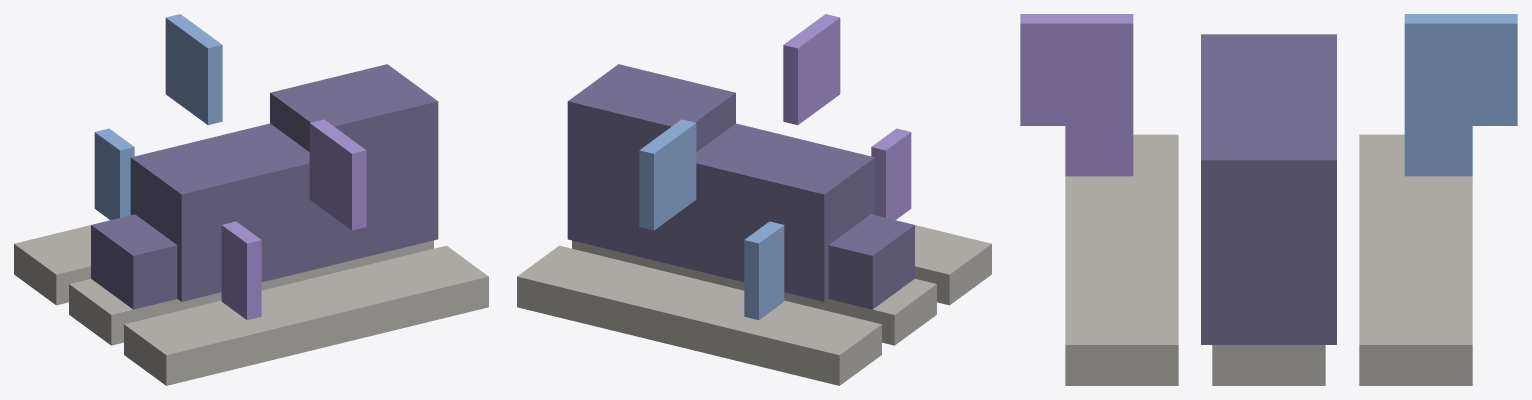
The model's file is hy4_mariposa_rojo_alas_20261113.glb.
3 renders of one model, left to right at view 1: azimuth 30°, elevation 25°; view 2: azimuth 150°, elevation 25°; view 3: azimuth 270°, elevation 25°, orthographic. The views are drawn at different scales.
Visible parts, largest first — view 1: SM_Mariposa_Cuerpo_NOFUNDIR, SM_Mariposa_Rodela_NOFUNDIR, SM_Mariposa_Ala_L_NOFUNDIR, SM_Mariposa_Ala_R_NOFUNDIR; view 2: SM_Mariposa_Cuerpo_NOFUNDIR, SM_Mariposa_Rodela_NOFUNDIR, SM_Mariposa_Ala_R_NOFUNDIR, SM_Mariposa_Ala_L_NOFUNDIR; view 3: SM_Mariposa_Rodela_NOFUNDIR, SM_Mariposa_Cuerpo_NOFUNDIR, SM_Mariposa_Ala_L_NOFUNDIR, SM_Mariposa_Ala_R_NOFUNDIR.
Boxes of the visible parts, box(x1,y1,x2,y2) form: SM_Mariposa_Cuerpo_NOFUNDIR: box(91, 64, 438, 309); SM_Mariposa_Rodela_NOFUNDIR: box(14, 225, 488, 385); SM_Mariposa_Ala_L_NOFUNDIR: box(221, 119, 366, 320); SM_Mariposa_Ala_R_NOFUNDIR: box(94, 14, 222, 219); SM_Mariposa_Cuerpo_NOFUNDIR: box(567, 64, 914, 309); SM_Mariposa_Rodela_NOFUNDIR: box(517, 225, 991, 385); SM_Mariposa_Ala_R_NOFUNDIR: box(639, 119, 784, 320); SM_Mariposa_Ala_L_NOFUNDIR: box(783, 14, 911, 219); SM_Mariposa_Rodela_NOFUNDIR: box(1065, 134, 1472, 385); SM_Mariposa_Cuerpo_NOFUNDIR: box(1201, 34, 1336, 344); SM_Mariposa_Ala_L_NOFUNDIR: box(1020, 14, 1133, 176); SM_Mariposa_Ala_R_NOFUNDIR: box(1404, 14, 1517, 176).
Size of the model in its own units: 0.44 by 0.265 by 0.44.
